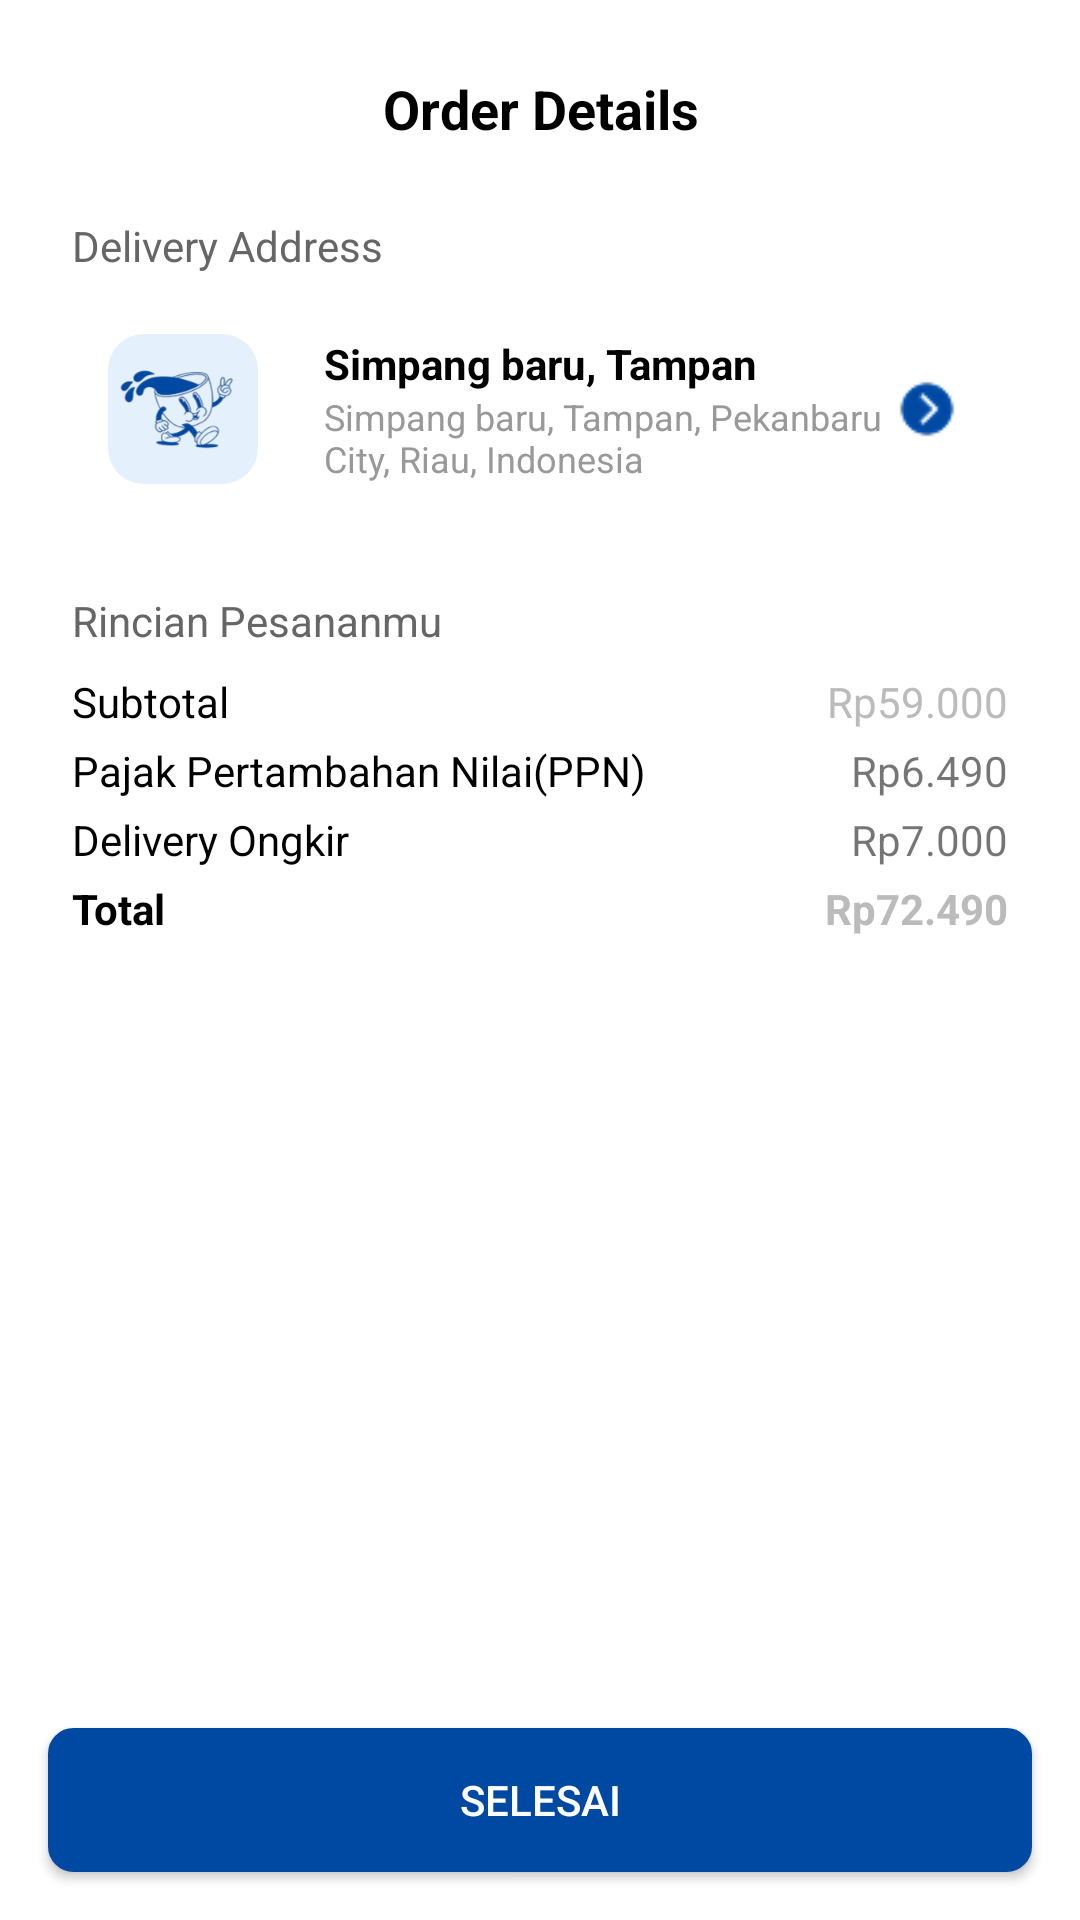

Locate icon controls on the screen. Image size 1080px x 1920px, boxes as (x1, y1, x2, y2).
nextpage: (900, 382, 954, 436)
